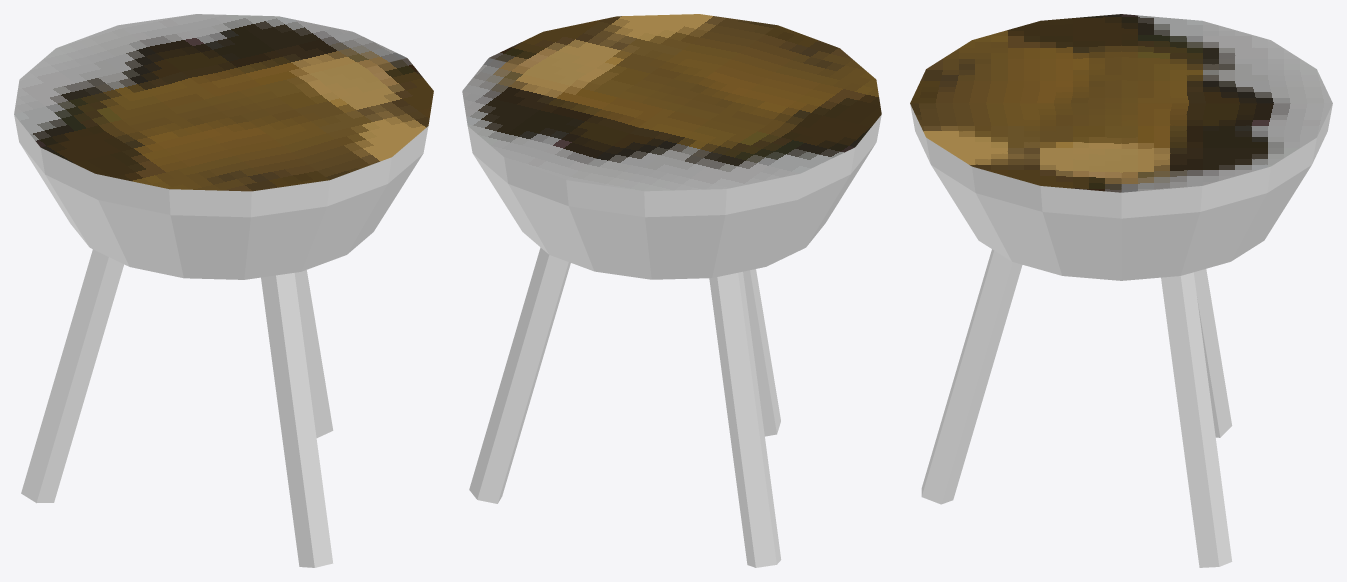
Rendered from Building_Brazier.glb.
The picture shows the model from 3 angles, left to right: view 1: azimuth 30°, elevation 25°; view 2: azimuth 150°, elevation 25°; view 3: azimuth 270°, elevation 25°; orthographic projection.
Parts seen in each view (by area): view 1: Brazier; view 2: Brazier; view 3: Brazier.
Part boxes in pixels (bbox=[...]): Brazier: bbox=[14, 14, 433, 567]; Brazier: bbox=[462, 14, 881, 567]; Brazier: bbox=[910, 14, 1332, 567].
Size of the model in its own units: 0.82 by 0.849 by 0.82.
Materials: 1 (1 with a texture image).
